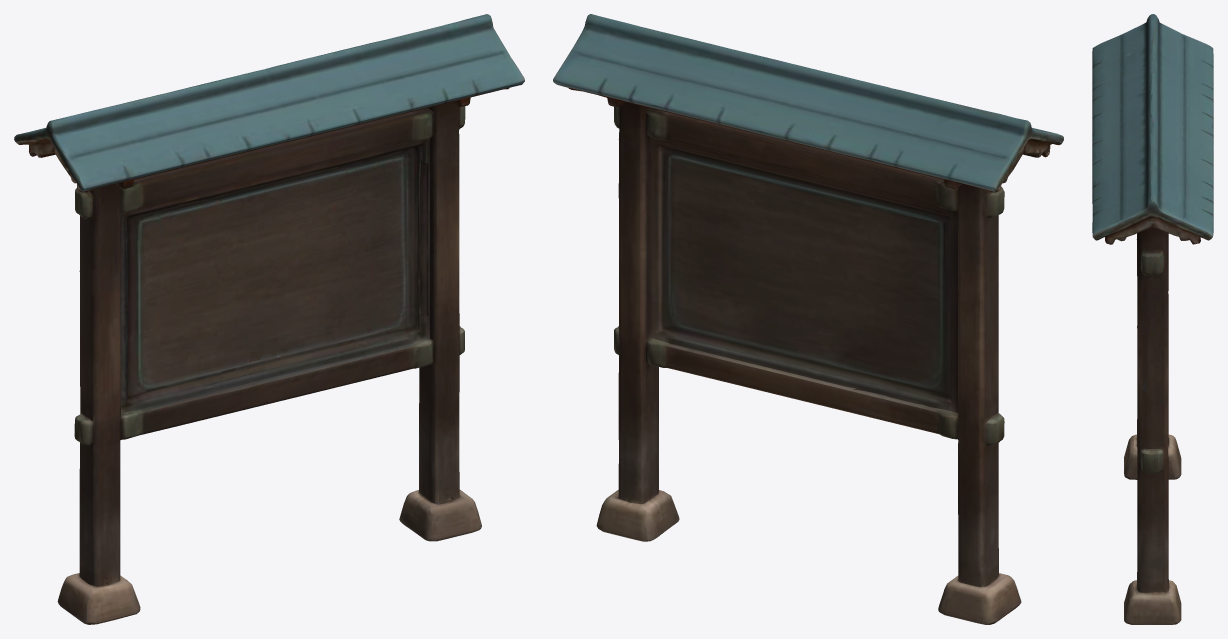
Rendered from PROP-009.glb.
3 views of the same model, side by side, from view 1: azimuth 30°, elevation 25°; view 2: azimuth 150°, elevation 25°; view 3: azimuth 270°, elevation 25° (orthographic). The views are drawn at different scales.
Parts seen in each view (by area): view 1: world; view 2: world; view 3: world.
Boxes of the visible parts, x1,y1,x2,y2 form: world: (14,14,524,624); world: (553,14,1063,624); world: (1092,14,1213,624).
Size of the model in its own units: 2.04 by 2.2 by 0.5559.
Materials: 1 (1 with a texture image).
